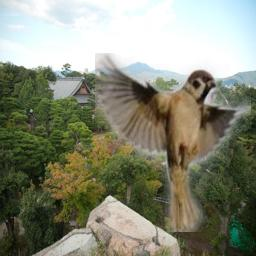Sparrow: (95, 53, 251, 232)
